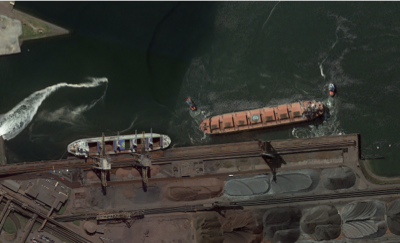boat: (199, 99, 325, 135), (67, 132, 172, 157), (186, 97, 197, 111), (328, 81, 336, 97)
